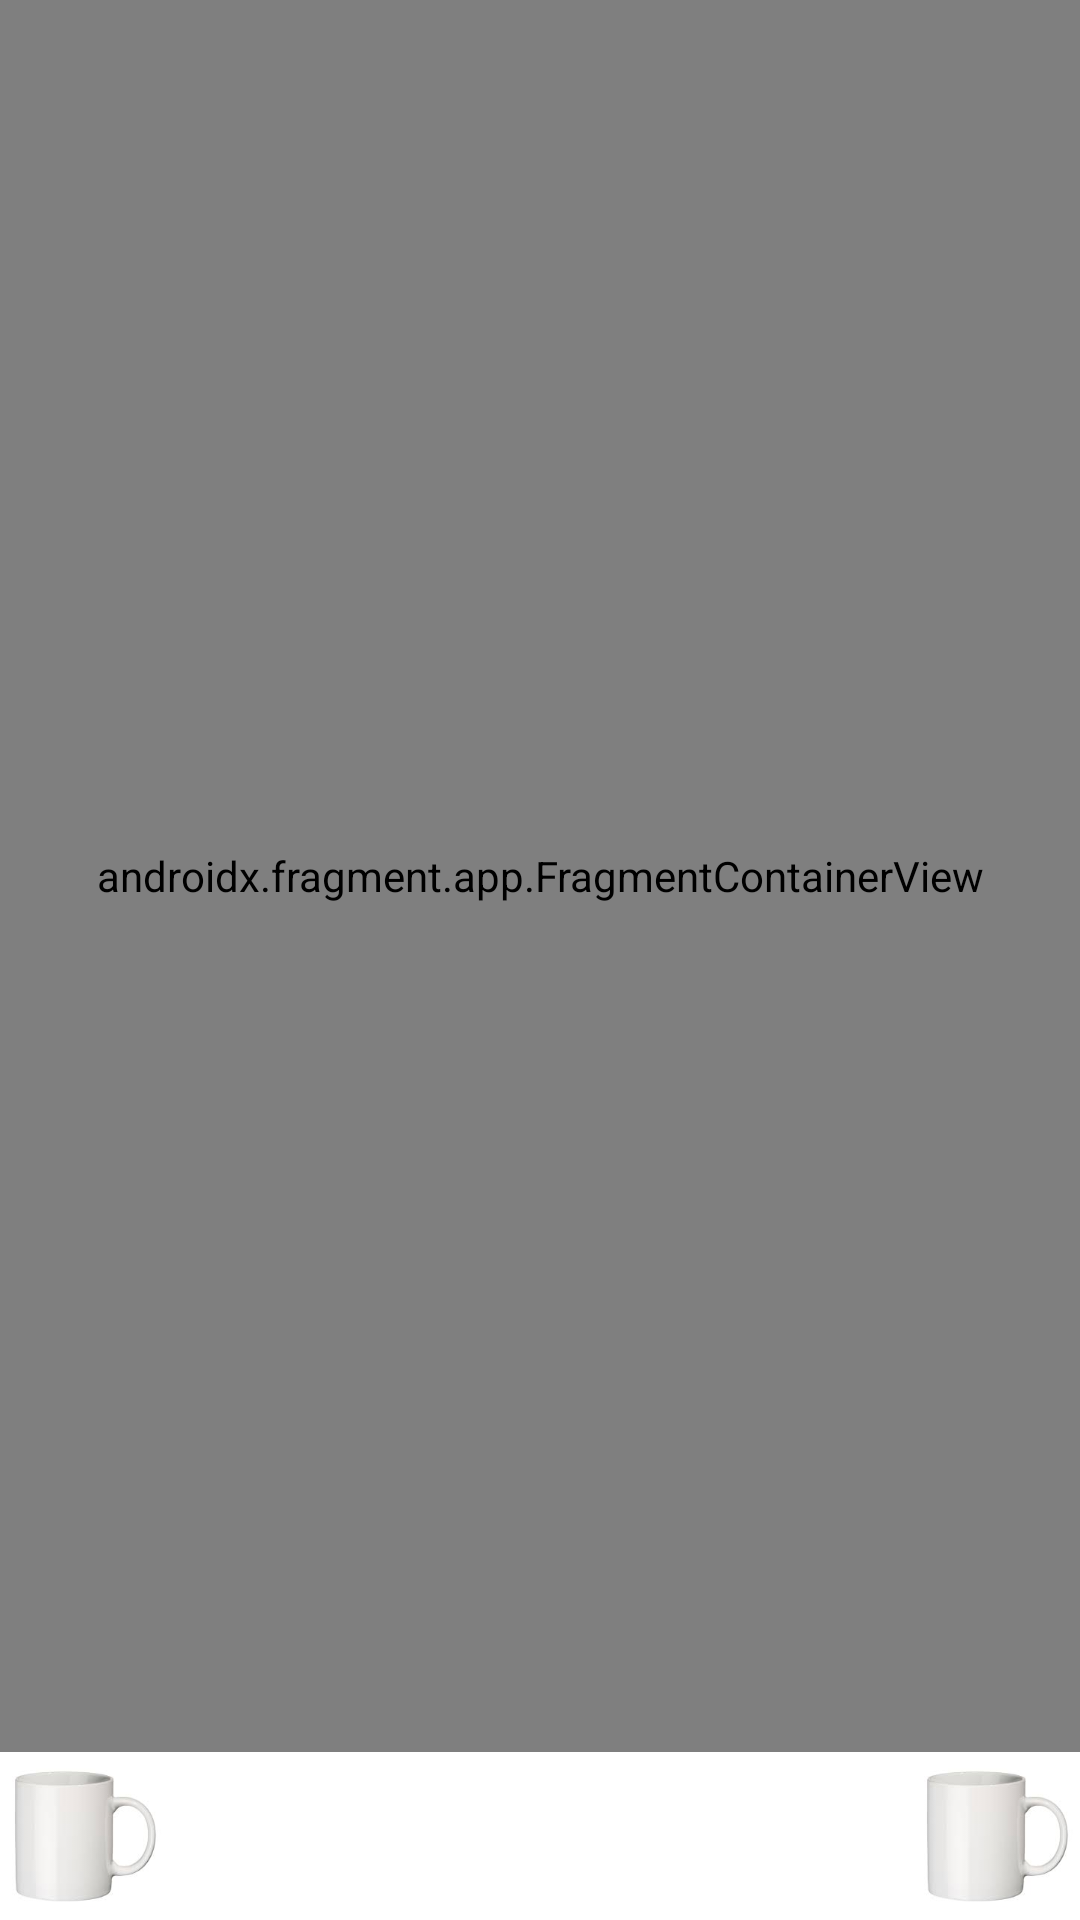

Where to tap for icons on this 1080×1920 app screen, as (x,y):
cup: (85,1836), (997,1836)
